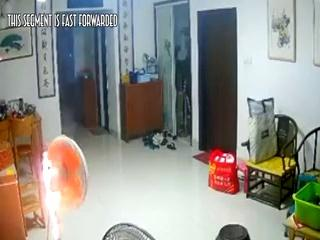Fire: (36, 148, 68, 220)
